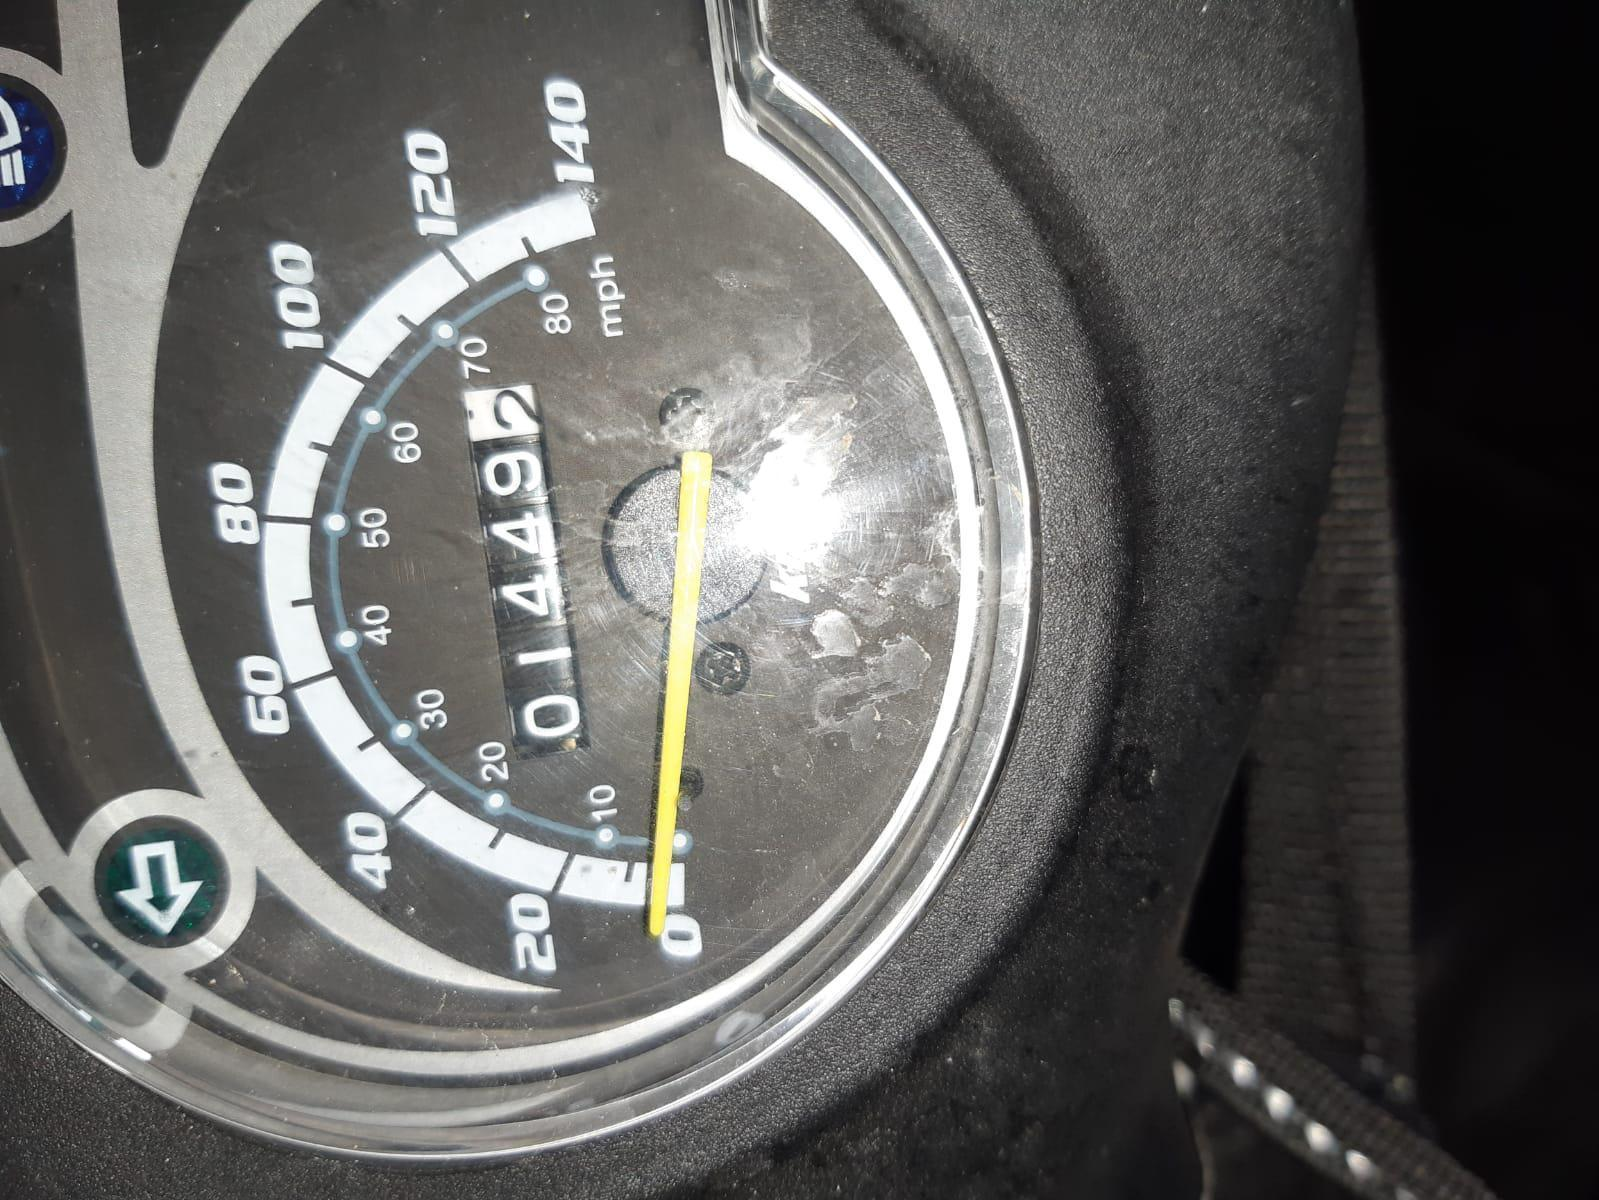0: (519, 687, 582, 742), (476, 737, 508, 761)
1: (505, 637, 582, 673)
2: (491, 381, 546, 434)
4: (486, 505, 554, 555), (496, 568, 561, 619)
9: (483, 446, 543, 498)
odometer: (451, 378, 605, 764)
